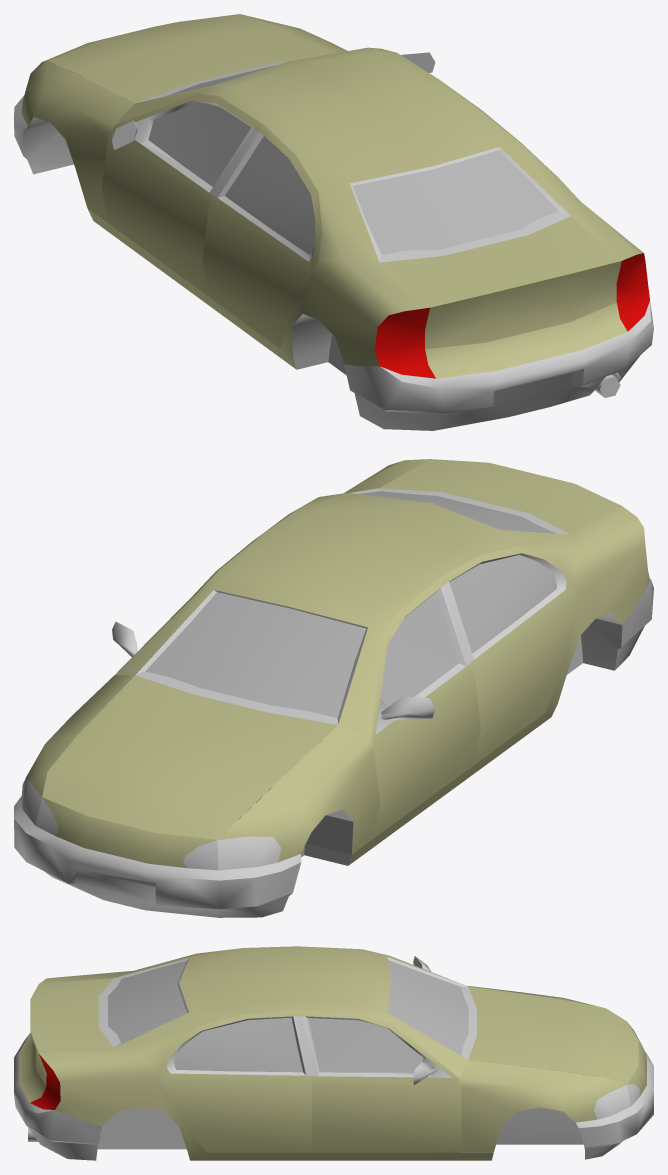
File: gatves.fbx
3 renders of one model, top to bottom at view 1: azimuth 30°, elevation 25°; view 2: azimuth 150°, elevation 25°; view 3: azimuth 270°, elevation 25°, orthographic. The views are drawn at different scales.
Visible parts, largest first — view 1: bonnet_hi_ok.001; view 2: bonnet_hi_ok.001; view 3: bonnet_hi_ok.001.
Part boxes in pixels (x1,y1,x2,y2): bonnet_hi_ok.001: (14, 14, 653, 430); bonnet_hi_ok.001: (14, 459, 653, 917); bonnet_hi_ok.001: (14, 946, 653, 1160).
Size of the model in its own units: 232 by 130 by 537.
